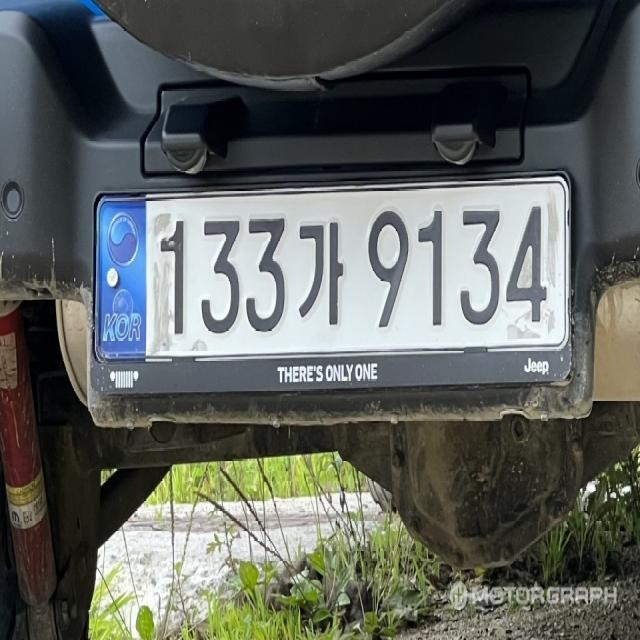car: (90, 156, 578, 374)
